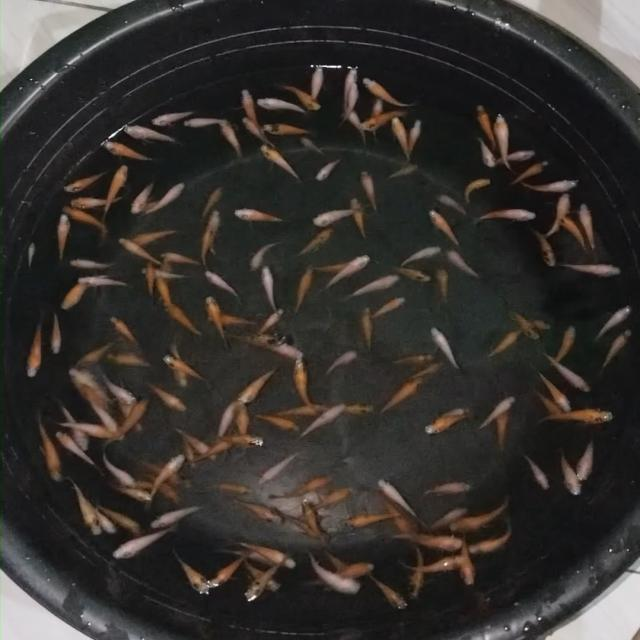nila: (239, 552, 290, 610), (451, 494, 515, 534), (304, 551, 361, 595), (542, 347, 594, 394), (110, 524, 174, 560), (210, 543, 259, 590), (66, 364, 120, 406), (295, 400, 347, 443), (104, 396, 149, 444), (466, 516, 516, 559), (365, 570, 416, 612), (138, 178, 190, 218), (62, 202, 110, 244), (356, 76, 418, 108), (266, 472, 336, 500), (294, 558, 379, 581), (258, 142, 304, 184), (378, 476, 420, 522), (72, 328, 120, 368), (172, 552, 209, 602), (56, 433, 100, 475), (378, 376, 424, 416), (236, 362, 282, 402), (256, 446, 302, 486), (36, 410, 61, 483), (424, 326, 466, 369), (324, 252, 368, 293), (534, 366, 570, 416), (148, 452, 188, 497), (228, 493, 284, 525), (147, 499, 206, 529), (244, 535, 298, 567), (600, 327, 632, 380), (61, 403, 94, 454), (162, 298, 202, 340), (71, 476, 98, 538), (526, 222, 560, 270), (140, 465, 184, 502), (468, 203, 538, 226), (59, 270, 95, 314), (417, 506, 466, 538), (578, 202, 604, 262), (593, 303, 632, 342), (476, 394, 516, 432), (290, 228, 333, 263), (100, 163, 128, 216), (428, 207, 461, 251), (493, 111, 515, 177), (398, 556, 470, 576), (398, 528, 466, 549), (417, 476, 474, 501), (99, 500, 142, 533), (275, 81, 322, 111), (150, 377, 188, 414), (238, 114, 278, 149), (216, 548, 292, 566), (242, 238, 282, 272), (516, 174, 584, 194), (26, 312, 46, 380), (318, 546, 352, 586), (242, 556, 283, 589), (356, 104, 404, 132), (64, 166, 112, 194), (174, 426, 218, 456), (544, 190, 572, 237), (532, 388, 568, 424), (442, 246, 482, 278), (494, 392, 514, 456), (235, 205, 288, 229), (190, 439, 237, 466), (508, 158, 550, 188), (540, 408, 614, 425), (123, 124, 180, 146), (292, 264, 316, 316), (575, 434, 599, 486), (162, 356, 210, 382), (282, 508, 321, 540), (458, 530, 480, 586), (57, 420, 118, 440), (558, 214, 590, 252), (549, 324, 576, 369), (485, 144, 540, 166), (310, 152, 350, 182), (118, 238, 166, 263), (204, 299, 228, 349), (140, 462, 190, 486), (472, 104, 498, 150), (558, 262, 624, 280), (93, 406, 126, 442), (341, 276, 400, 296), (251, 410, 300, 434), (523, 450, 551, 492), (110, 482, 152, 510), (380, 497, 410, 536), (256, 96, 314, 116), (258, 338, 306, 362), (556, 450, 580, 498), (341, 512, 401, 531), (259, 120, 322, 138), (218, 116, 245, 158), (88, 502, 119, 538), (239, 84, 263, 130), (220, 429, 268, 452), (508, 306, 540, 340), (102, 141, 156, 161), (129, 176, 156, 216), (308, 208, 362, 228), (250, 308, 286, 338), (170, 335, 190, 389), (76, 378, 105, 415), (368, 294, 409, 320), (200, 270, 238, 298), (303, 500, 326, 546), (388, 118, 412, 162), (105, 373, 137, 406), (110, 312, 141, 346), (154, 247, 204, 268), (273, 403, 331, 421), (98, 349, 150, 369), (338, 81, 360, 128), (128, 226, 179, 246), (294, 358, 314, 409), (260, 265, 279, 318), (316, 483, 356, 508), (324, 350, 357, 380), (359, 305, 376, 363), (150, 106, 194, 128), (428, 412, 474, 433), (202, 479, 250, 499), (384, 266, 434, 285), (338, 63, 361, 104), (484, 331, 518, 358), (234, 401, 250, 458), (400, 244, 441, 266), (228, 333, 288, 348), (119, 401, 144, 437), (216, 396, 235, 442), (201, 314, 259, 329), (103, 454, 131, 485), (384, 350, 438, 366), (140, 261, 158, 308), (140, 268, 196, 283), (402, 362, 444, 382), (308, 64, 326, 110), (312, 258, 358, 276), (197, 224, 216, 267), (207, 207, 223, 258), (434, 194, 468, 218), (466, 176, 492, 207), (154, 274, 175, 312), (179, 428, 198, 469), (330, 402, 378, 418), (351, 198, 370, 238), (76, 275, 130, 289), (62, 256, 116, 270), (361, 170, 379, 212), (157, 249, 174, 292), (71, 195, 123, 209), (406, 118, 426, 154), (128, 196, 168, 214), (106, 478, 146, 496), (300, 136, 329, 160), (436, 267, 452, 310), (518, 316, 552, 336), (386, 162, 419, 182), (202, 184, 221, 218), (59, 208, 70, 265), (182, 118, 234, 130), (436, 406, 476, 421), (478, 138, 496, 170), (372, 94, 384, 140), (51, 311, 63, 357), (26, 240, 38, 273)
